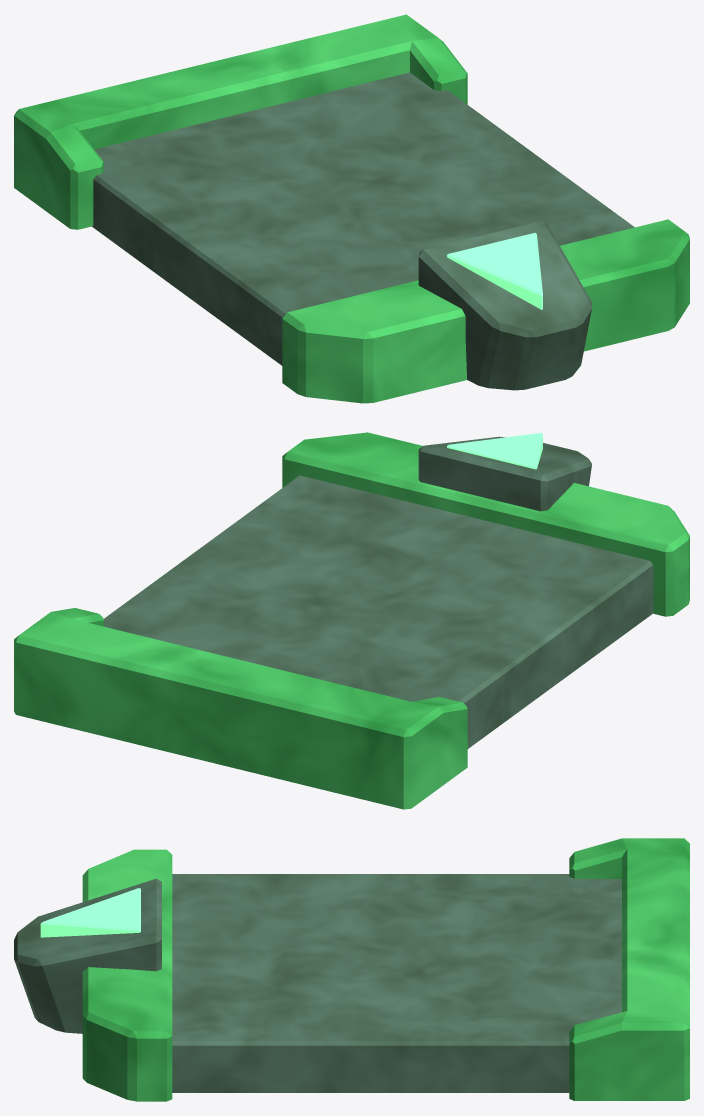
The model's file is green_baseplate.glb.
3 renders of one model, top to bottom at view 1: azimuth 30°, elevation 25°; view 2: azimuth 150°, elevation 25°; view 3: azimuth 270°, elevation 25°, orthographic. The views are drawn at different scales.
Visible parts, largest first — view 1: GreenPlate; view 2: GreenPlate; view 3: GreenPlate.
Part boxes in pixels (bbox=[...]): GreenPlate: bbox=[14, 14, 689, 403]; GreenPlate: bbox=[14, 432, 689, 809]; GreenPlate: bbox=[14, 838, 689, 1101].
Size of the model in its own units: 0.9761 by 0.2441 by 1.47.
1 material, 1 textured.
